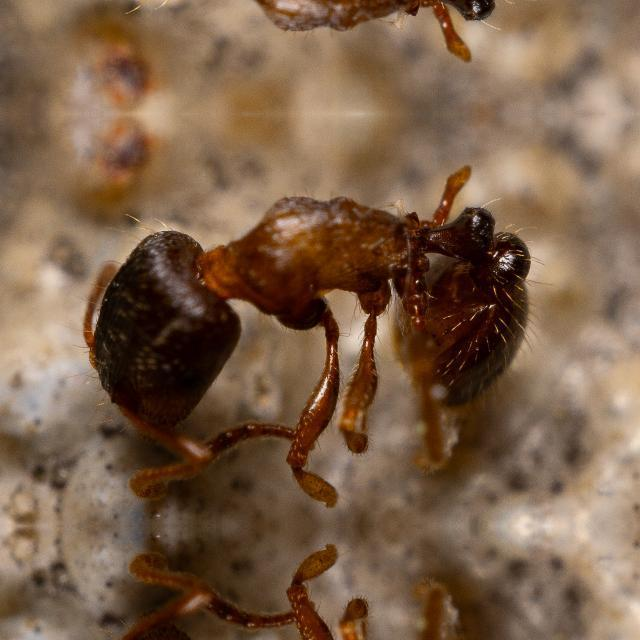Tetramorium: (34, 133, 584, 487), (34, 0, 584, 92), (34, 564, 584, 640)
